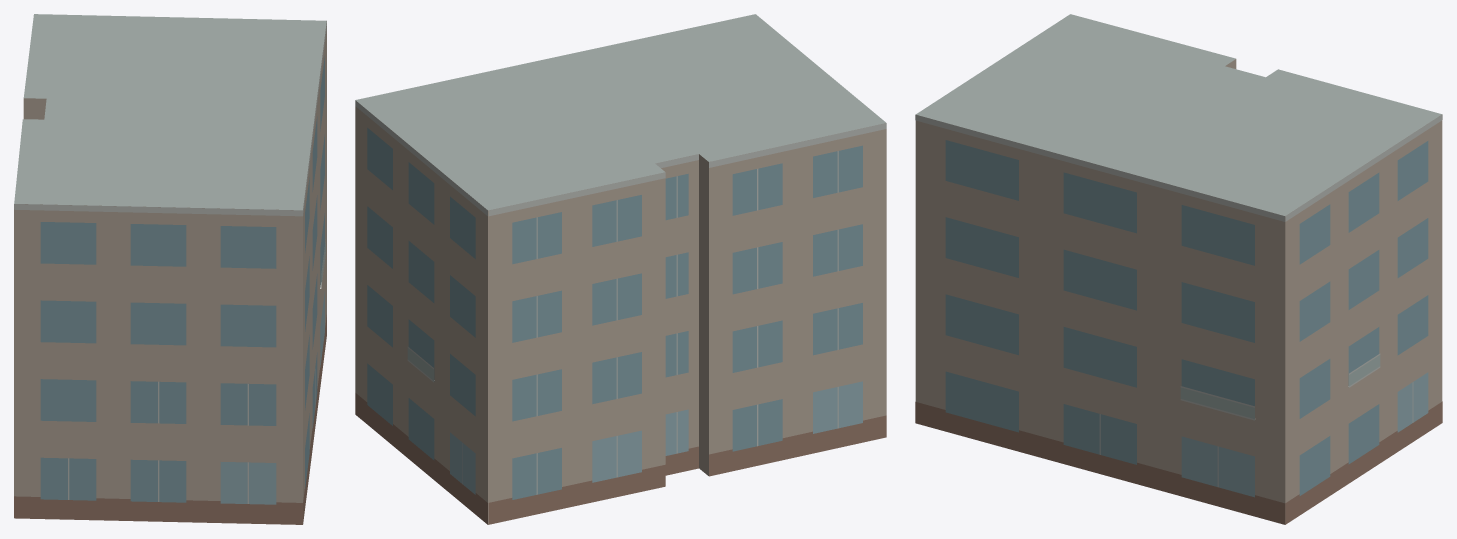
Rendered from survey-upis-32705532.glb.
3 renders of one model, left to right at view 1: azimuth 30°, elevation 25°; view 2: azimuth 150°, elevation 25°; view 3: azimuth 270°, elevation 25°, orthographic.
Visible parts, largest first — view 1: survey-upis-32705532.tmp; view 2: survey-upis-32705532.tmp; view 3: survey-upis-32705532.tmp.
Part boxes in pixels (<box>): survey-upis-32705532.tmp: <box>14,14,326,524</box>; survey-upis-32705532.tmp: <box>355,14,886,524</box>; survey-upis-32705532.tmp: <box>915,14,1442,524</box>.
Size of the model in its own units: 17.99 by 12.8 by 19.81.
